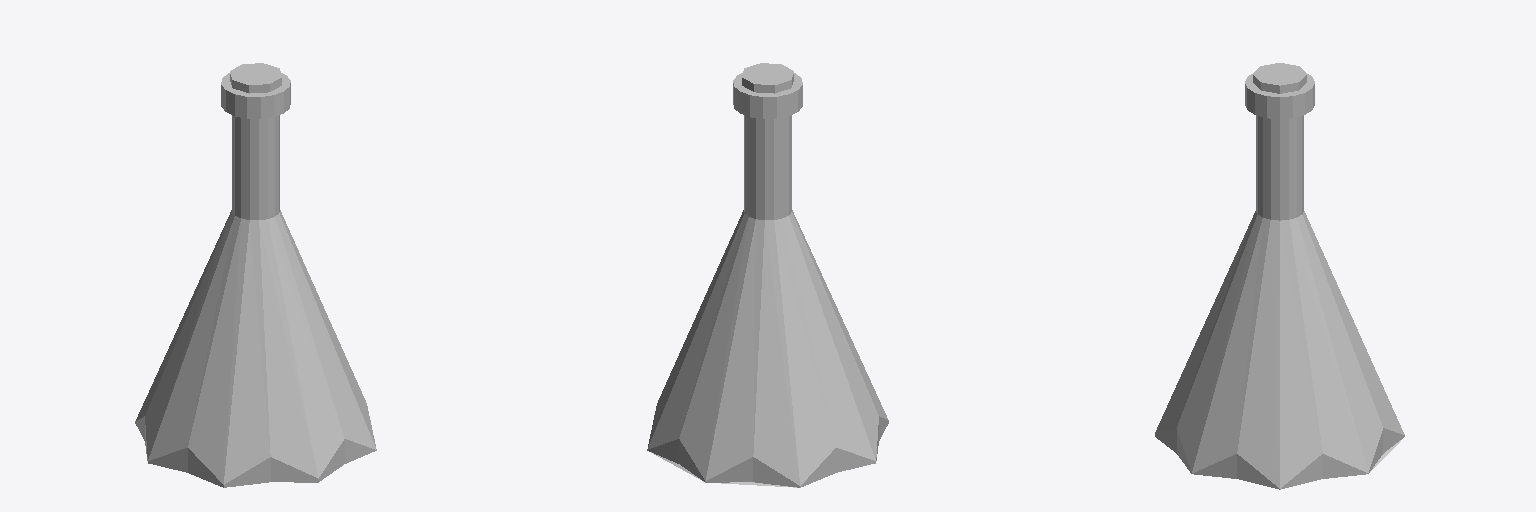
The model's file is mana.obj.
The picture shows the model from 3 angles: view 1: azimuth 30°, elevation 25°; view 2: azimuth 150°, elevation 25°; view 3: azimuth 270°, elevation 25°; orthographic projection.
Visible parts, largest first — view 1: Cylinder, Cylinder.001; view 2: Cylinder, Cylinder.001; view 3: Cylinder, Cylinder.001.
Boxes of the visible parts, box(x1,y1,x2,y2) form: Cylinder: box(135, 73, 376, 487); Cylinder.001: box(230, 63, 281, 93); Cylinder: box(647, 73, 888, 487); Cylinder.001: box(742, 63, 793, 93); Cylinder: box(1155, 74, 1404, 489); Cylinder.001: box(1253, 63, 1306, 93).
Size of the model in its own units: 2 by 3.21 by 2.